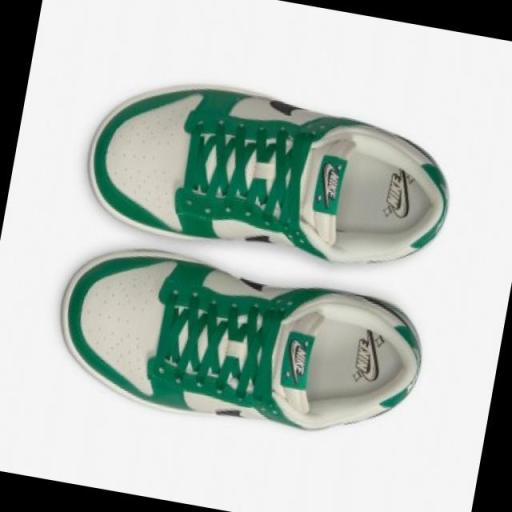Nike: (284, 336, 302, 375), (327, 172, 339, 198)
